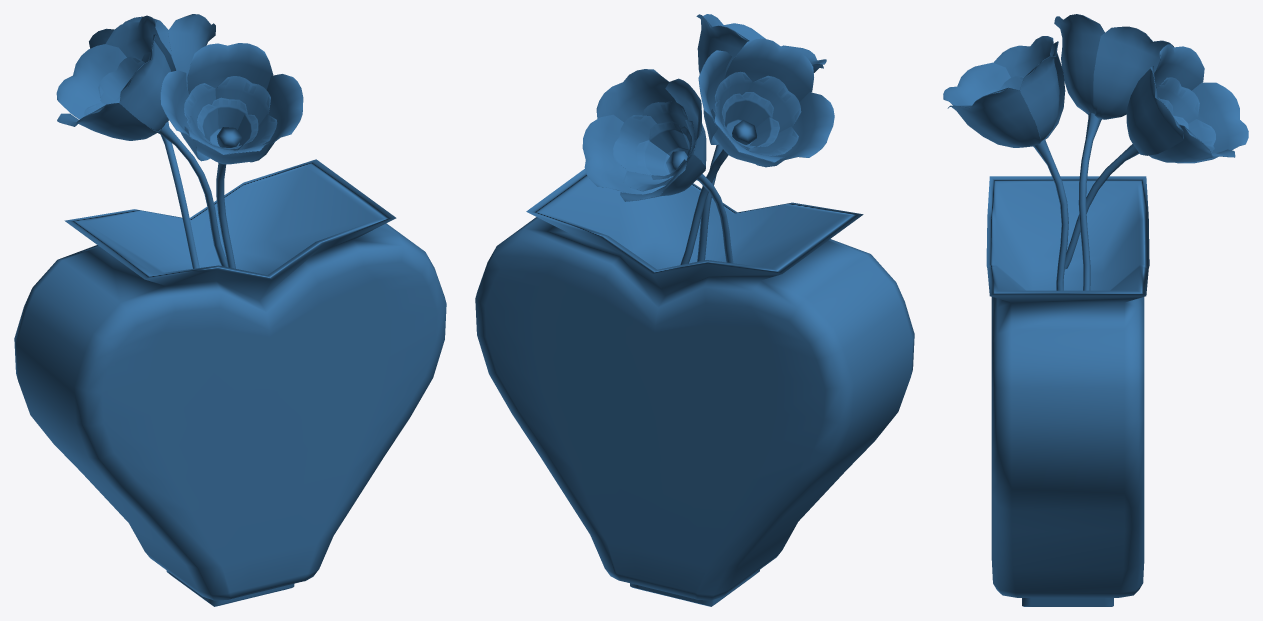
The model's file is Mesh_Florero_v001.fbx.
The picture shows the model from 3 angles, left to right: view 1: azimuth 30°, elevation 25°; view 2: azimuth 150°, elevation 25°; view 3: azimuth 270°, elevation 25°; orthographic projection. The views are drawn at different scales.
Visible parts, largest first — view 1: Mesh_Florero_v001; view 2: Mesh_Florero_v001; view 3: Mesh_Florero_v001.
Boxes of the visible parts, box(x1,y1,x2,y2) form: Mesh_Florero_v001: box(14, 14, 446, 606); Mesh_Florero_v001: box(475, 14, 914, 606); Mesh_Florero_v001: box(943, 14, 1248, 606).
Bounding box in the file's own units: 1.34 × 1.92 × 0.9851.
